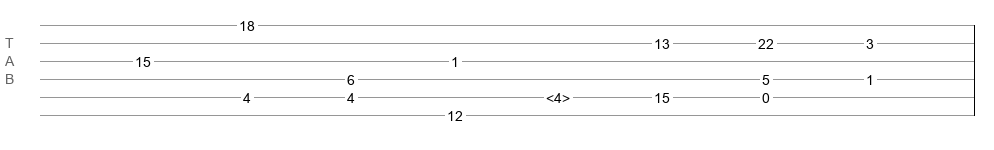0: (762, 90, 770, 100)
1: (451, 54, 459, 64), (866, 72, 874, 82)
12: (447, 108, 463, 118)
13: (654, 36, 670, 46)
15: (135, 54, 151, 64), (654, 90, 670, 100)
18: (239, 18, 255, 28)
22: (758, 36, 774, 46)
3: (866, 36, 874, 46)
4: (243, 90, 251, 100), (347, 90, 355, 100)
5: (762, 72, 770, 82)
6: (347, 72, 355, 82)
harmonic: (546, 90, 570, 100)
